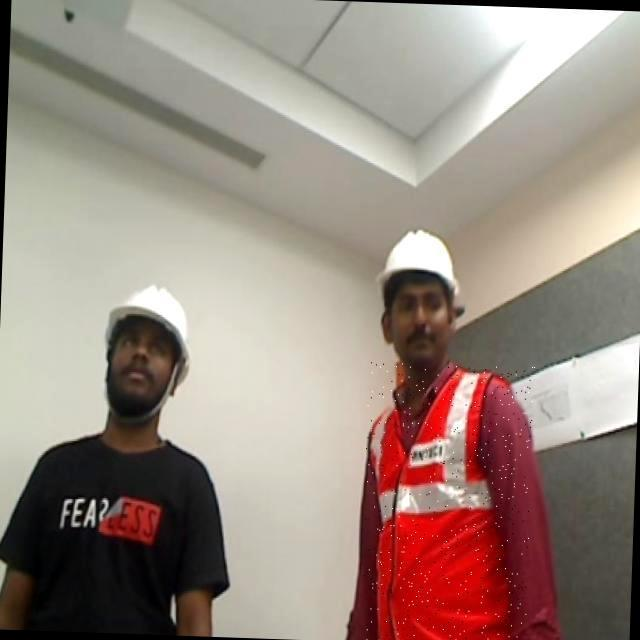hard_hat: (105, 285, 186, 368), (378, 230, 458, 297)
person: (346, 230, 559, 639), (22, 286, 229, 633)
